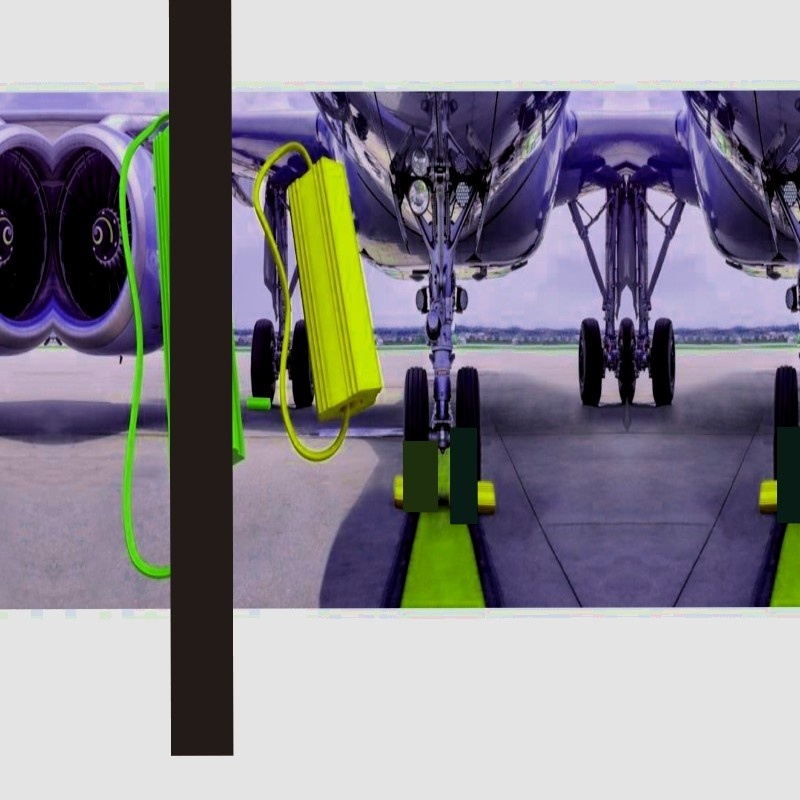chock: (151, 112, 245, 487), (286, 159, 386, 426), (446, 476, 498, 516), (758, 475, 800, 515), (392, 476, 439, 509), (245, 394, 272, 411)
wheel: (456, 366, 482, 481), (773, 365, 799, 480), (403, 366, 429, 479), (578, 316, 604, 406), (651, 316, 677, 405), (252, 316, 277, 403), (291, 317, 315, 405), (617, 317, 627, 403), (627, 317, 637, 403)
